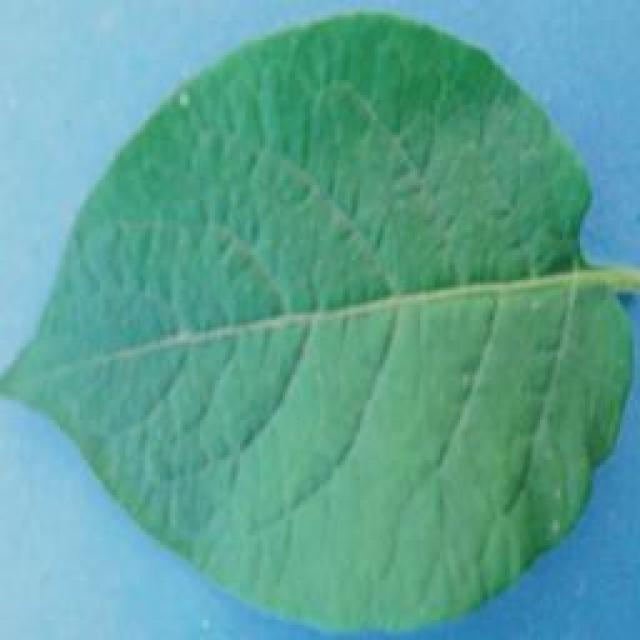Potato_Healthy: (5, 7, 634, 634)
